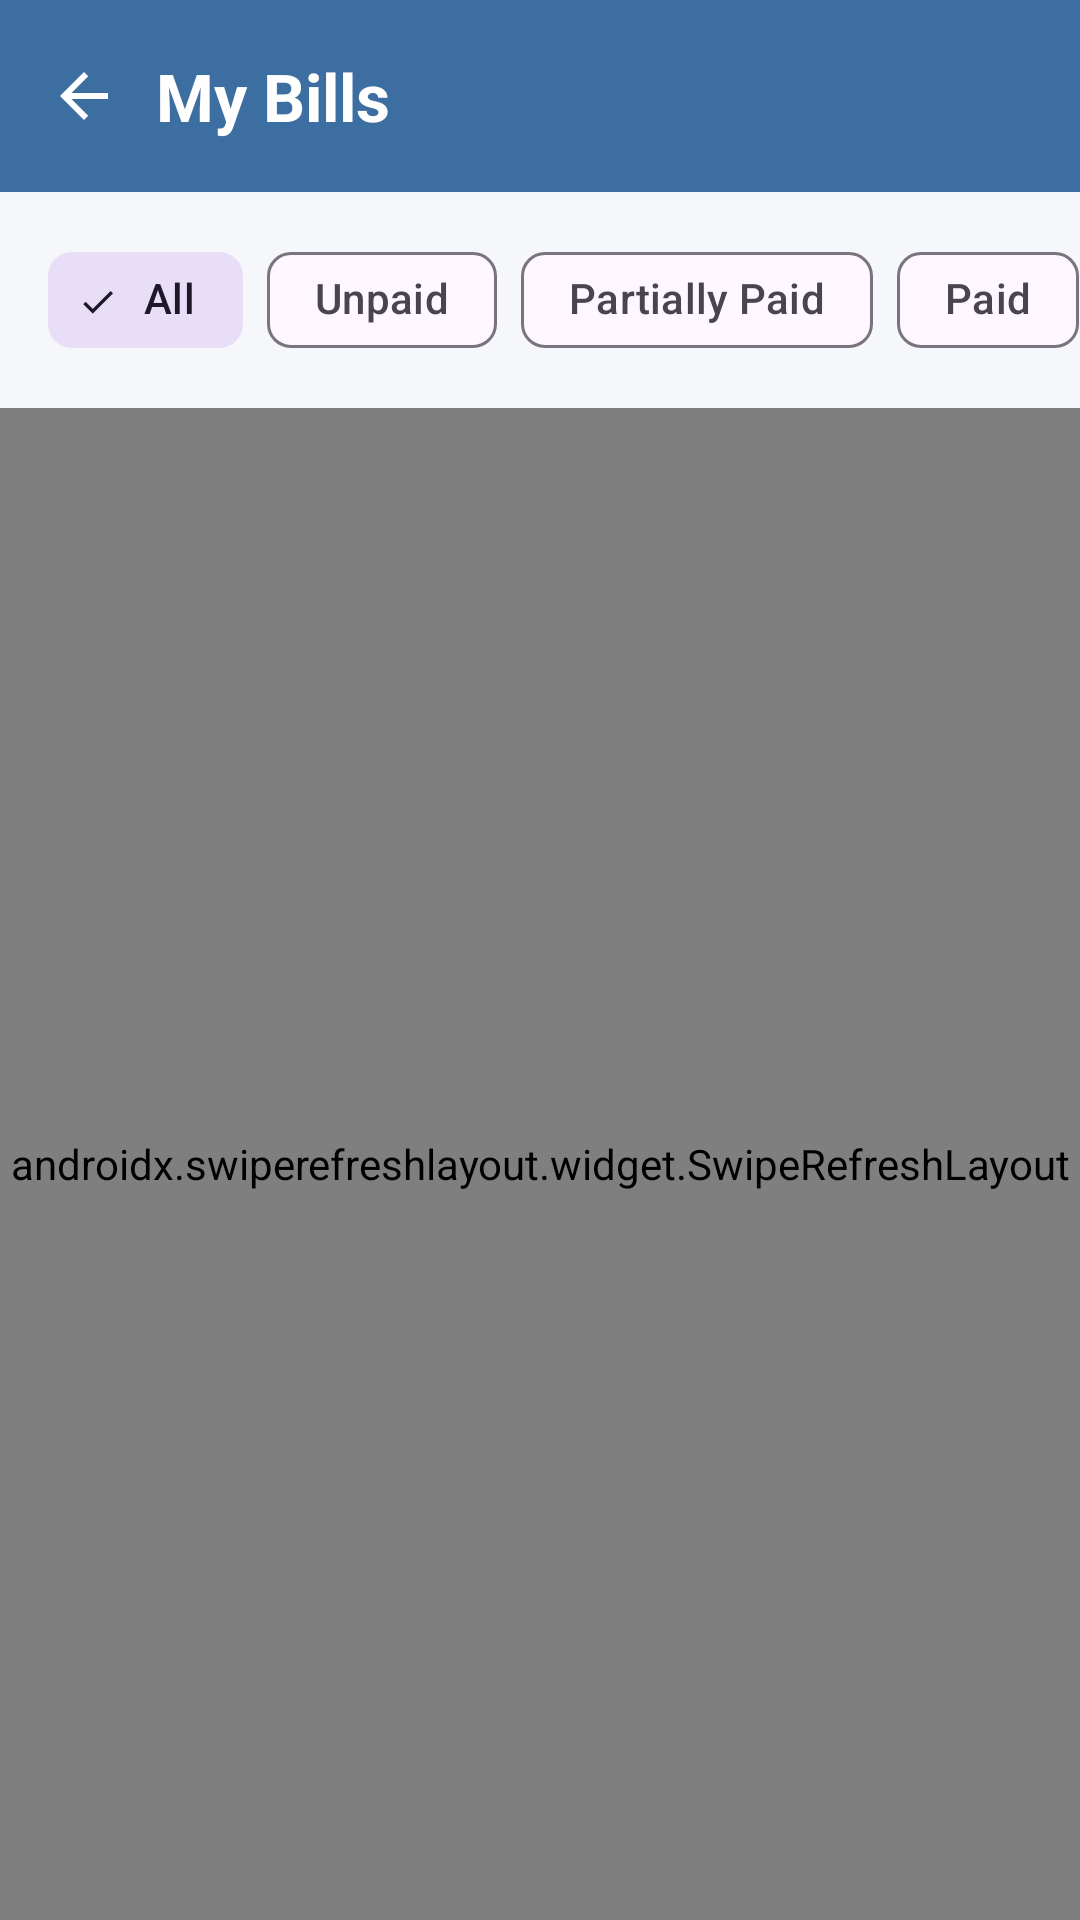

Point at icon controls on the screen. Image size 1080w x 1920h, points as [x,y].
Back: [84,96]
